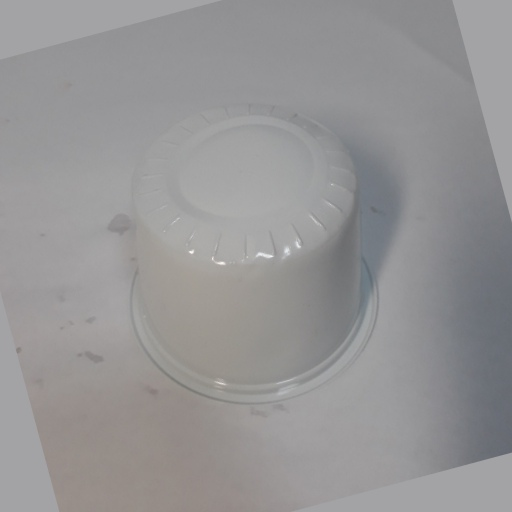Plastic_5: (126, 100, 380, 406)
